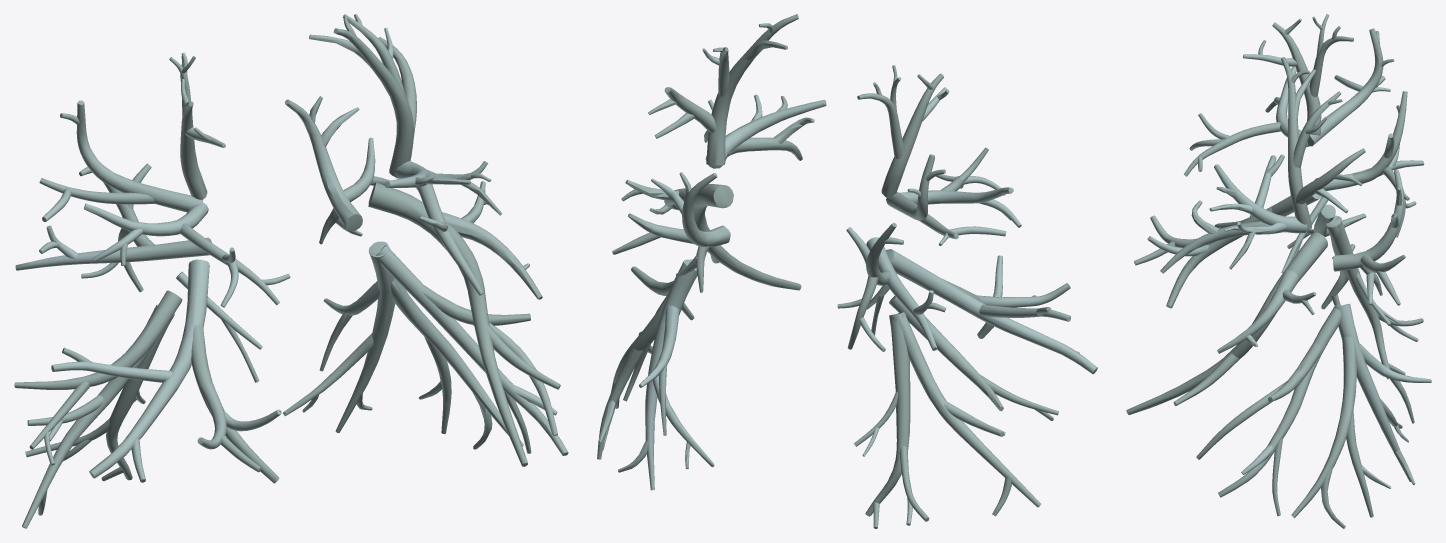
The model's file is bronchial-tree.glb.
3 views of the same model, side by side, from view 1: azimuth 30°, elevation 25°; view 2: azimuth 150°, elevation 25°; view 3: azimuth 270°, elevation 25° (orthographic). The views are drawn at different scales.
Parts seen in each view (by area): view 1: FJ2441 Inferior lingular bronchial tree, FJ2449 Lateral segmental bronchial tree, FJ2442 Left medial basal segmental bronchial tree, FJ2452 Right anterior basal segmental bronchial tree, FJ2446 Left posterior basal segmental bronchial tree, FJ2445 Left lateral basal segmental bronchial tree, FJ2444 Left apical segmental bronchial tree, FJ2458 Right posterior segmental bronchial tree, FJ2459 Right superior segmental bronchial tree, FJ2448 Left superior segmental bronchial tree, FJ2455 Right lateral basal segmental bronchial tree, FJ2451 Medial segmental bronchial tree (+22 smaller); view 2: FJ2449 Lateral segmental bronchial tree, FJ2455 Right lateral basal segmental bronchial tree, FJ2457 Right posterior basal segmental bronchial tree, FJ2446 Left posterior basal segmental bronchial tree, FJ2441 Inferior lingular bronchial tree, FJ2444 Left apical segmental bronchial tree, FJ2452 Right anterior basal segmental bronchial tree, FJ2454 Right apical segmental bronchial tree, FJ2443 Left anterior segmental bronchial tree, FJ2448 Left superior segmental bronchial tree, FJ2459 Right superior segmental bronchial tree, FJ2453 Right anterior segmental bronchial tree (+15 smaller); view 3: FJ2441 Inferior lingular bronchial tree, FJ2445 Left lateral basal segmental bronchial tree, FJ2442 Left medial basal segmental bronchial tree, FJ2446 Left posterior basal segmental bronchial tree, FJ2444 Left apical segmental bronchial tree, FJ2457 Right posterior basal segmental bronchial tree, FJ2458 Right posterior segmental bronchial tree, FJ2448 Left superior segmental bronchial tree, FJ2540 Superior lingular bronchial tree, FJ2443 Left anterior segmental bronchial tree, FJ2467 Left anterior segmental bronchial tree, FJ2496 Right superior segmental bronchial tree (+24 smaller).
Part boxes in pixels (<box>): FJ2441 Inferior lingular bronchial tree: <box>368,182,527,466</box>; FJ2449 Lateral segmental bronchial tree: <box>89,259,209,478</box>; FJ2442 Left medial basal segmental bronchial tree: <box>376,245,568,455</box>; FJ2452 Right anterior basal segmental bronchial tree: <box>14,290,182,389</box>; FJ2446 Left posterior basal segmental bronchial tree: <box>335,241,395,432</box>; FJ2445 Left lateral basal segmental bronchial tree: <box>390,278,523,446</box>; FJ2444 Left apical segmental bronchial tree: <box>333,28,413,177</box>; FJ2458 Right posterior segmental bronchial tree: <box>76,100,203,212</box>; FJ2459 Right superior segmental bronchial tree: <box>15,237,211,270</box>; FJ2448 Left superior segmental bronchial tree: <box>285,99,362,230</box>; FJ2455 Right lateral basal segmental bronchial tree: <box>22,305,157,528</box>; FJ2451 Medial segmental bronchial tree: <box>191,324,279,483</box>; FJ2449 Lateral segmental bronchial tree: <box>886,249,1097,374</box>; FJ2455 Right lateral basal segmental bronchial tree: <box>892,312,1040,507</box>; FJ2457 Right posterior basal segmental bronchial tree: <box>865,313,910,516</box>; FJ2446 Left posterior basal segmental bronchial tree: <box>645,259,697,490</box>; FJ2441 Inferior lingular bronchial tree: <box>693,184,801,290</box>; FJ2444 Left apical segmental bronchial tree: <box>706,14,798,165</box>; FJ2452 Right anterior basal segmental bronchial tree: <box>889,295,1003,411</box>; FJ2454 Right apical segmental bronchial tree: <box>881,73,943,198</box>; FJ2443 Left anterior segmental bronchial tree: <box>705,100,826,168</box>; FJ2448 Left superior segmental bronchial tree: <box>682,173,730,247</box>; FJ2459 Right superior segmental bronchial tree: <box>866,237,936,350</box>; FJ2453 Right anterior segmental bronchial tree: <box>899,187,1013,204</box>; FJ2441 Inferior lingular bronchial tree: <box>1126,232,1327,414</box>; FJ2445 Left lateral basal segmental bronchial tree: <box>1291,336,1356,517</box>; FJ2442 Left medial basal segmental bronchial tree: <box>1218,303,1341,497</box>; FJ2446 Left posterior basal segmental bronchial tree: <box>1333,304,1410,481</box>; FJ2444 Left apical segmental bronchial tree: <box>1281,57,1311,232</box>; FJ2457 Right posterior basal segmental bronchial tree: <box>1326,216,1389,379</box>; FJ2458 Right posterior segmental bronchial tree: <box>1307,28,1383,146</box>; FJ2448 Left superior segmental bronchial tree: <box>1333,169,1403,271</box>; FJ2540 Superior lingular bronchial tree: <box>1217,270,1299,353</box>; FJ2443 Left anterior segmental bronchial tree: <box>1214,164,1307,233</box>; FJ2467 Left anterior segmental bronchial tree: <box>1160,221,1285,273</box>; FJ2496 Right superior segmental bronchial tree: <box>1352,91,1407,185</box>.
Bounding box in the file's own units: 0.2394 × 0.2283 × 0.1575.
